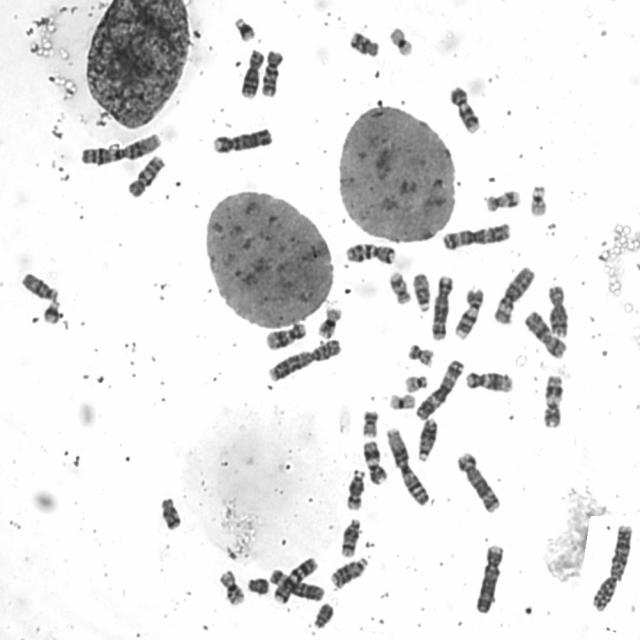A1: (384, 424, 431, 507), (78, 130, 163, 166)
A2: (588, 521, 635, 612), (265, 334, 342, 384)
A3: (413, 357, 465, 421), (439, 219, 512, 251)
B4: (472, 540, 507, 614), (210, 124, 274, 154)
B5: (455, 448, 501, 514), (428, 271, 454, 341)
C10: (124, 152, 168, 198), (258, 46, 286, 98)
C11: (540, 372, 564, 430), (361, 437, 389, 486)
C12: (263, 319, 309, 352), (463, 368, 515, 394)
C6: (491, 262, 537, 326), (266, 566, 324, 602)
C7: (271, 554, 319, 605), (343, 239, 397, 266)
C8: (237, 46, 266, 100), (545, 280, 570, 340)
C9: (446, 81, 483, 136), (451, 285, 485, 341)
D13: (328, 554, 370, 589), (414, 416, 440, 462)
D14: (338, 514, 362, 558), (344, 467, 366, 512)
D15: (19, 269, 60, 302), (411, 271, 432, 314)
E16: (217, 567, 246, 606), (316, 304, 344, 339)
E17: (482, 187, 521, 213), (387, 269, 412, 307)
E18: (347, 28, 381, 59), (158, 494, 182, 531)
F19: (387, 24, 415, 58), (386, 390, 416, 410)
F20: (406, 341, 436, 368), (359, 406, 380, 438)
G21: (232, 14, 257, 43), (41, 297, 63, 324)
G22: (527, 182, 549, 218), (402, 372, 430, 393)
X: (522, 308, 568, 360)
Y: (310, 600, 335, 628), (245, 575, 270, 595)
